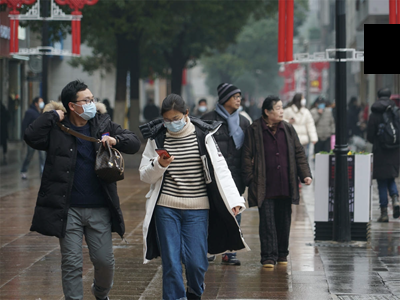with_mask: (76, 94, 99, 121), (163, 113, 187, 133), (37, 100, 46, 112)
without_mask: (271, 103, 285, 121), (229, 93, 243, 108)
